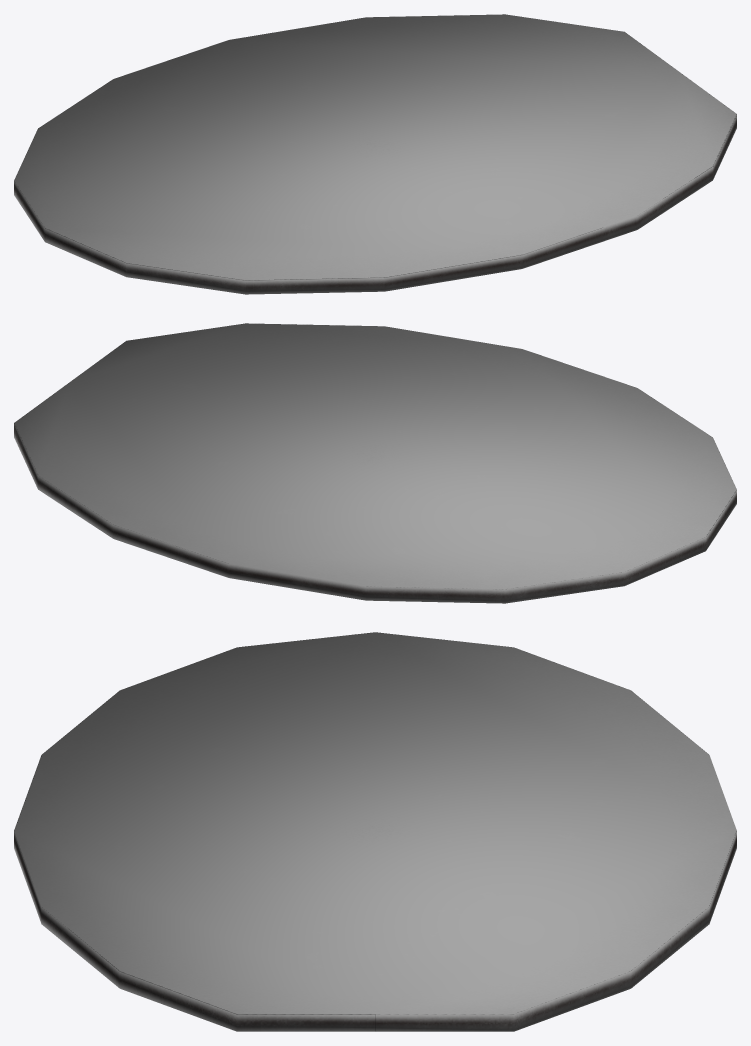
File: Toilet_Lid.glb
3 views of the same model, one above another, from view 1: azimuth 30°, elevation 25°; view 2: azimuth 150°, elevation 25°; view 3: azimuth 270°, elevation 25° (orthographic). The views are drawn at different scales.
Parts seen in each view (by area): view 1: Lid; view 2: Lid; view 3: Lid.
Boxes of the visible parts, x1=… form: Lid: x1=14, y1=14, x2=736, y2=294; Lid: x1=14, y1=323, x2=736, y2=603; Lid: x1=14, y1=632, x2=736, y2=1031.
Bounding box in the file's own units: 0.9409 × 0.02 × 0.7524.
1 material, 1 textured.
